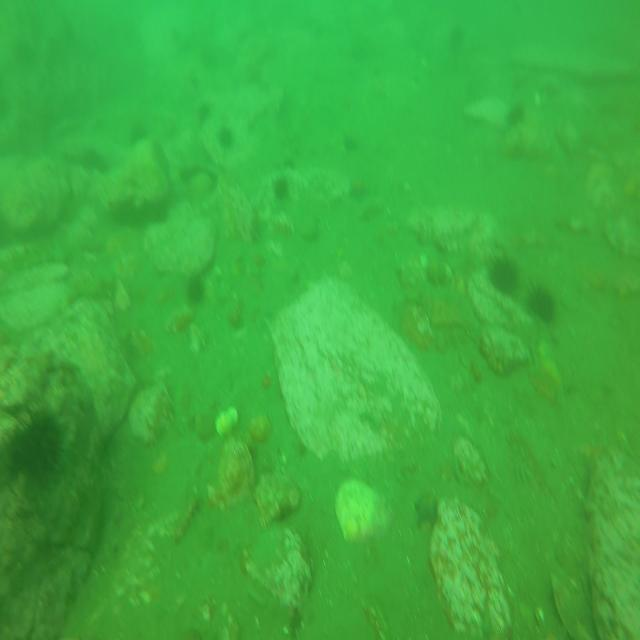echinus: (5, 401, 59, 496), (487, 252, 521, 297), (528, 283, 558, 332), (216, 123, 237, 156), (184, 270, 203, 304), (269, 175, 289, 204), (506, 103, 525, 132)
scallop: (334, 478, 395, 546), (127, 382, 174, 448), (216, 438, 254, 507)
